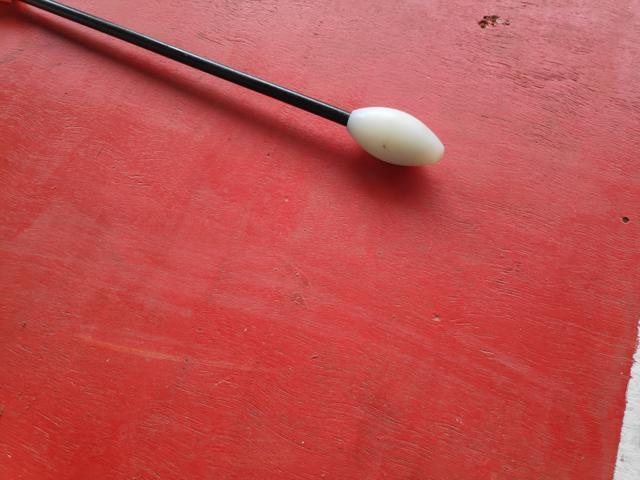Head: (345, 105, 448, 171)
